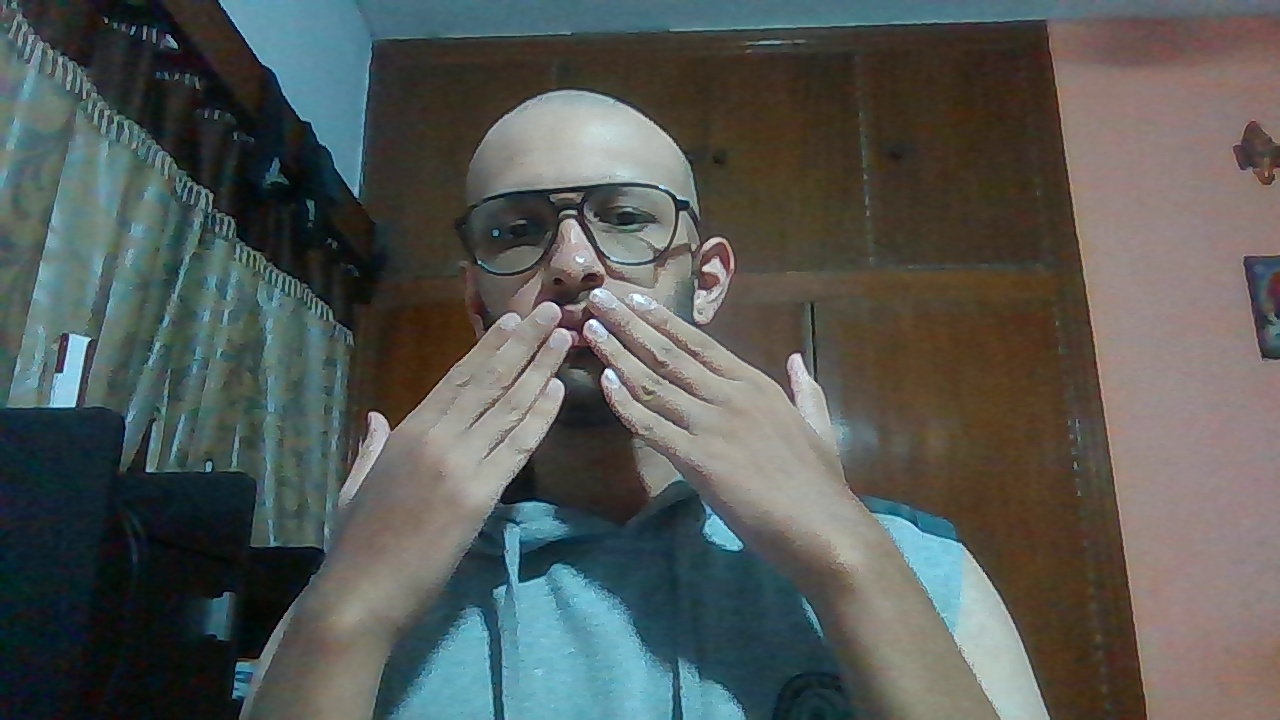Thank You: (315, 291, 887, 580)
